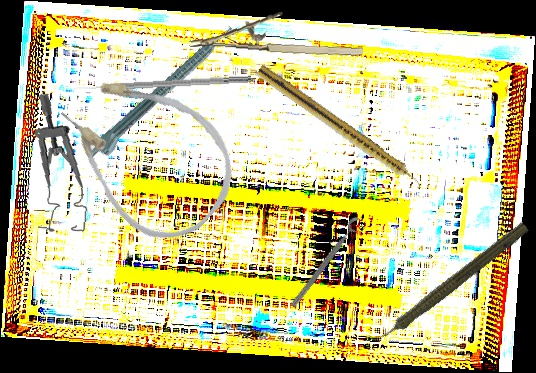Cannula: (38, 44, 257, 261)
Fixation Ring: (287, 214, 369, 314)
Handpiece: (364, 215, 532, 354), (83, 23, 242, 168), (253, 64, 427, 193)
Hook Surgical: (73, 74, 252, 93)
Needle Holder: (188, 4, 366, 62)
Speculum: (25, 92, 98, 236)
